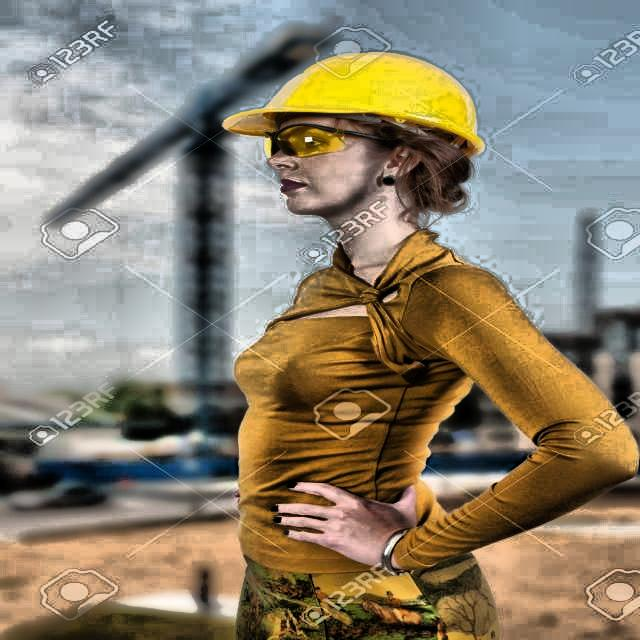person: (204, 42, 578, 640)
